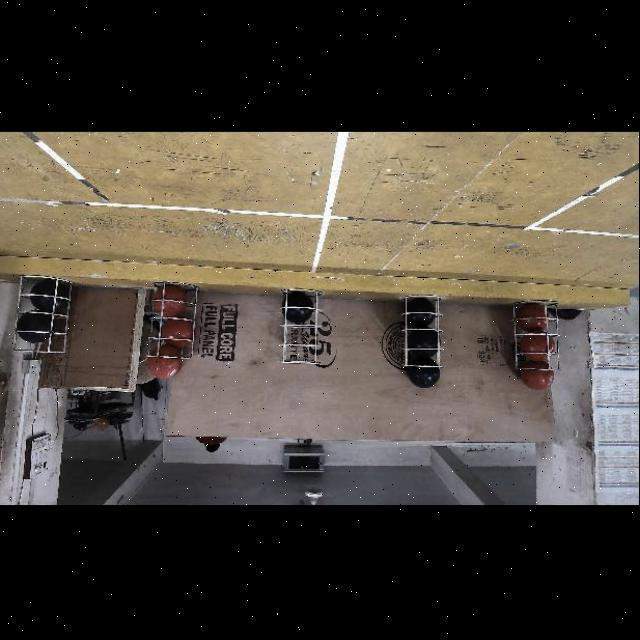P: (31, 280, 68, 312), (408, 358, 440, 390), (282, 294, 312, 322), (405, 300, 435, 328), (409, 329, 439, 356), (20, 314, 50, 338)
R: (148, 345, 183, 380), (520, 333, 556, 361), (154, 288, 188, 316), (522, 362, 556, 390), (518, 306, 550, 330), (163, 320, 194, 344)
S: (13, 280, 77, 362), (142, 282, 204, 366), (392, 292, 450, 374), (510, 298, 566, 378), (278, 286, 322, 372)
